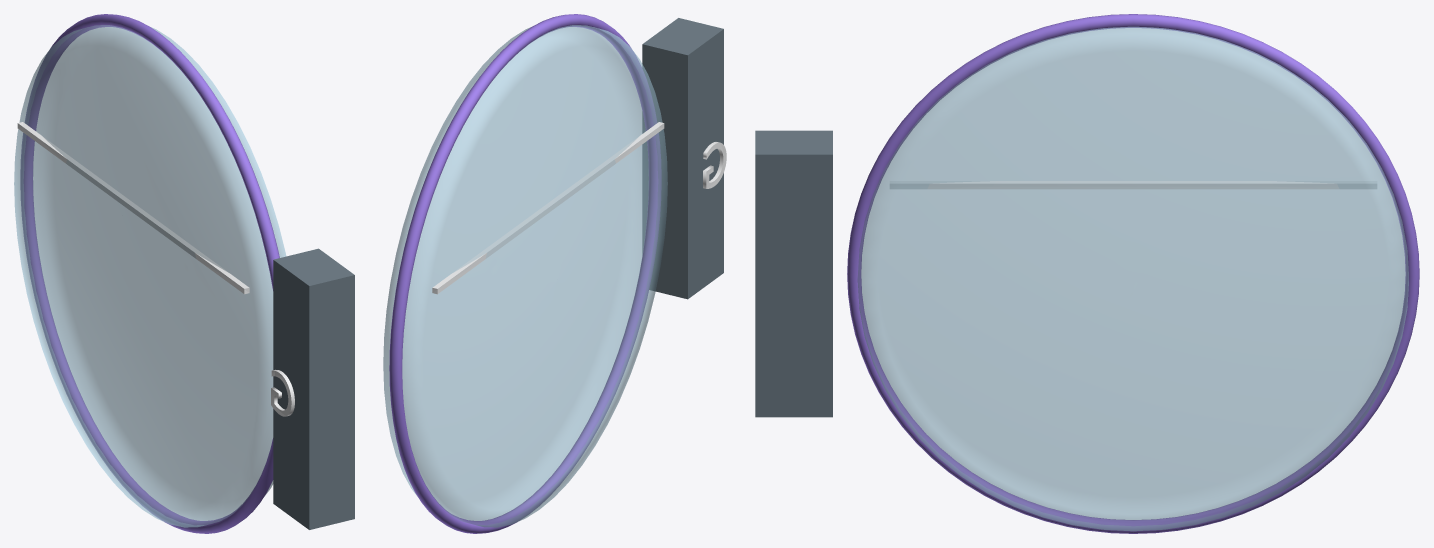
File: sim-eye-g.glb
3 views of the same model, side by side, from view 1: azimuth 30°, elevation 25°; view 2: azimuth 150°, elevation 25°; view 3: azimuth 270°, elevation 25° (orthographic). The views are drawn at different scales.
Parts seen in each view (by area): view 1: optical element, insert tab, lens rim, vertical glint, eye label; view 2: optical element, insert tab, lens rim, vertical glint, eye label; view 3: optical element, lens rim, insert tab, vertical glint.
Part boxes in pixels (box(x1,y1,x2,y2)): optical element: box(14, 25, 286, 527); insert tab: box(273, 248, 354, 529); lens rim: box(20, 14, 279, 533); vertical glint: box(17, 122, 249, 294); eye label: box(271, 369, 294, 416); optical element: box(383, 25, 667, 527); insert tab: box(642, 18, 723, 299); lens rim: box(389, 14, 661, 533); vertical glint: box(432, 122, 664, 294); eye label: box(703, 142, 726, 188); optical element: box(857, 27, 1408, 531); lens rim: box(847, 14, 1419, 533); insert tab: box(755, 130, 832, 417); vertical glint: box(890, 181, 1376, 189).
Bounding box in the file's own units: 0.226 × 1.62 × 1.88.
